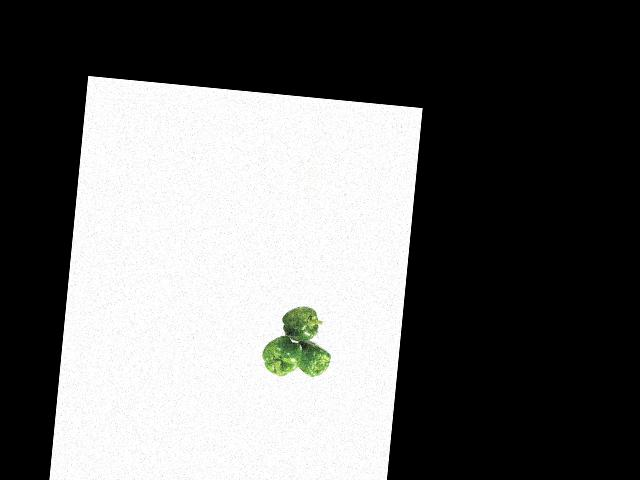bell_pepper: (256, 333, 304, 381)
